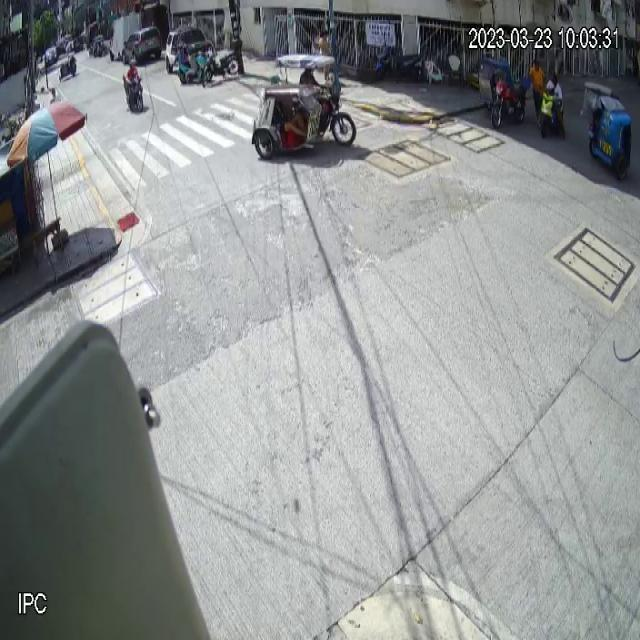Tricycle: (252, 53, 358, 163)
